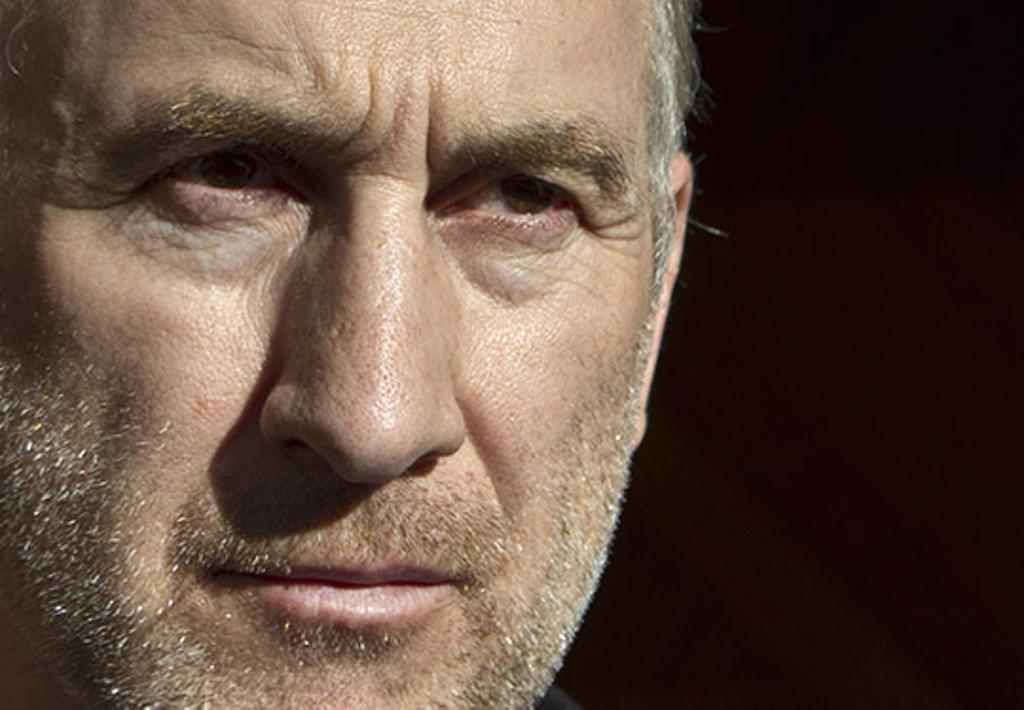face: (6, 0, 666, 686)
